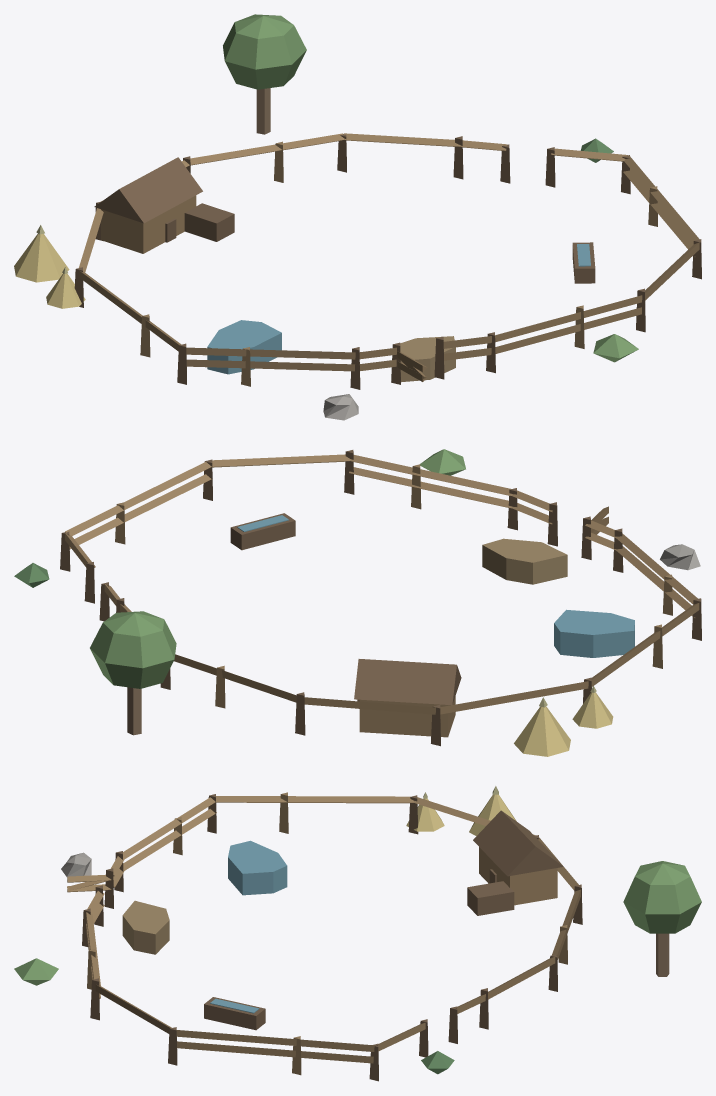
The model's file is pasture.glb.
3 renders of one model, top to bottom at view 1: azimuth 30°, elevation 25°; view 2: azimuth 150°, elevation 25°; view 3: azimuth 270°, elevation 25°, orthographic. The views are drawn at different scales.
Parts seen in each view (by area): view 1: LOD0; view 2: LOD0; view 3: LOD0.
Part boxes in pixels (box(x1,y1,x2,y2)): LOD0: box(14, 14, 701, 420); LOD0: box(14, 449, 701, 756); LOD0: box(14, 786, 701, 1081).
Size of what is drawn, in the model's own units: 1.59 by 0.35 by 1.74.
